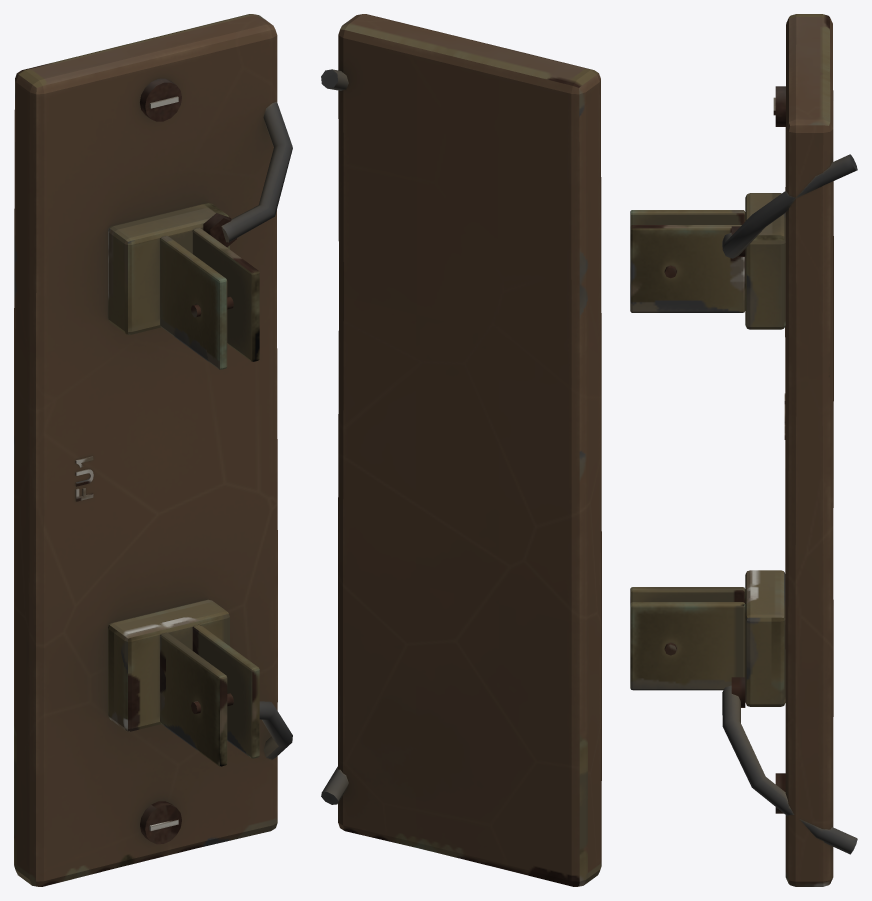
Rendered from FuseHolder.fbx.
3 renders of one model, left to right at view 1: azimuth 30°, elevation 25°; view 2: azimuth 150°, elevation 25°; view 3: azimuth 270°, elevation 25°, orthographic. The views are drawn at different scales.
Visible parts, largest first — view 1: FuseHolder_Mesh; view 2: FuseHolder_Mesh; view 3: FuseHolder_Mesh.
Part boxes in pixels (x1=…): FuseHolder_Mesh: x1=14, y1=14, x2=292, y2=886; FuseHolder_Mesh: x1=321, y1=14, x2=601, y2=886; FuseHolder_Mesh: x1=630, y1=14, x2=857, y2=886.
Bounding box in the file's own units: 0.0809 × 0.2501 × 0.0673.
